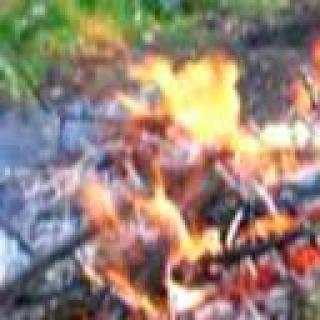fire: (63, 24, 320, 320)
